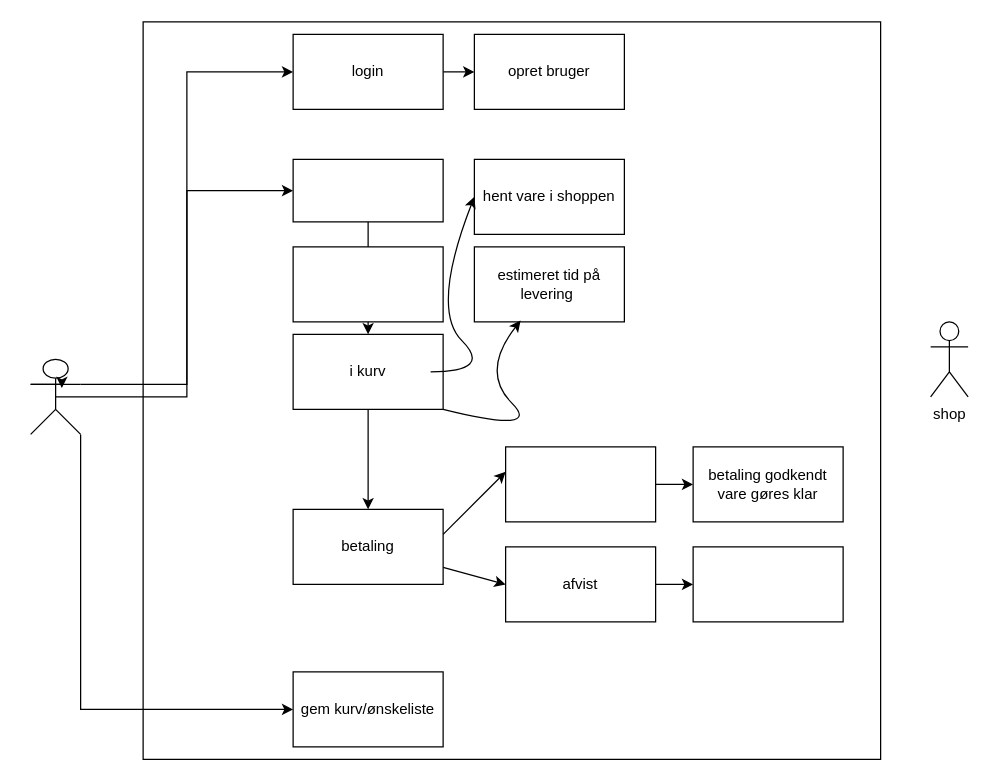
Some shapes in this 990 by 781 pixel diagram are drawn without their labels. Here are the shapes that lost their labels. From the top down, the box of each, then its label:
(292, 158, 443, 222): se vare
(292, 246, 443, 322): på lager
(29, 358, 81, 434): Customer
(504, 446, 656, 522): godkendt
(692, 546, 843, 622): prøv med et andet kort
